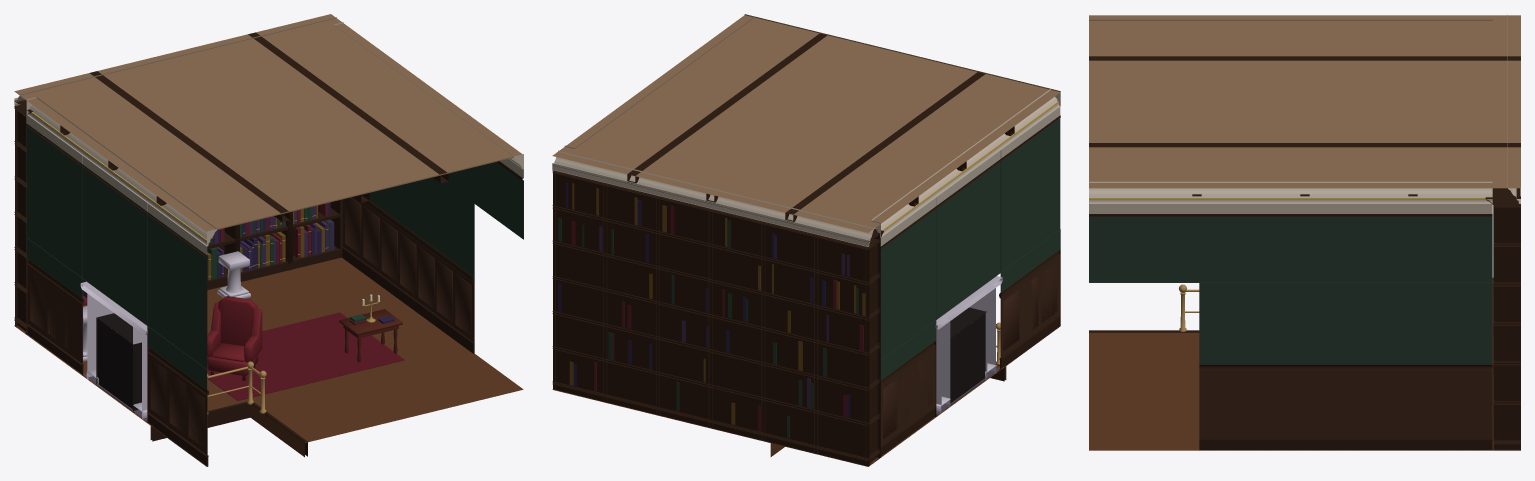
The model's file is library.glb.
The picture shows the model from 3 angles, left to right: view 1: azimuth 30°, elevation 25°; view 2: azimuth 150°, elevation 25°; view 3: azimuth 270°, elevation 25°; orthographic projection. The views are drawn at different scales.
Parts seen in each view (by area): view 1: Lib_main, Lib_left, Lib_back; view 2: Lib_main, Lib_left, Lib_back; view 3: Lib_main, Lib_left.
Part boxes in pixels (x1,y1,x2,y2): Lib_main: [14, 14, 523, 457]; Lib_left: [26, 97, 216, 466]; Lib_back: [14, 17, 336, 105]; Lib_main: [552, 14, 1060, 466]; Lib_left: [871, 89, 1060, 457]; Lib_back: [552, 150, 874, 246]; Lib_main: [1089, 15, 1520, 450]; Lib_left: [1089, 19, 1492, 20].
Bounding box in the file's own units: 8.77 × 6.58 × 9.2.
